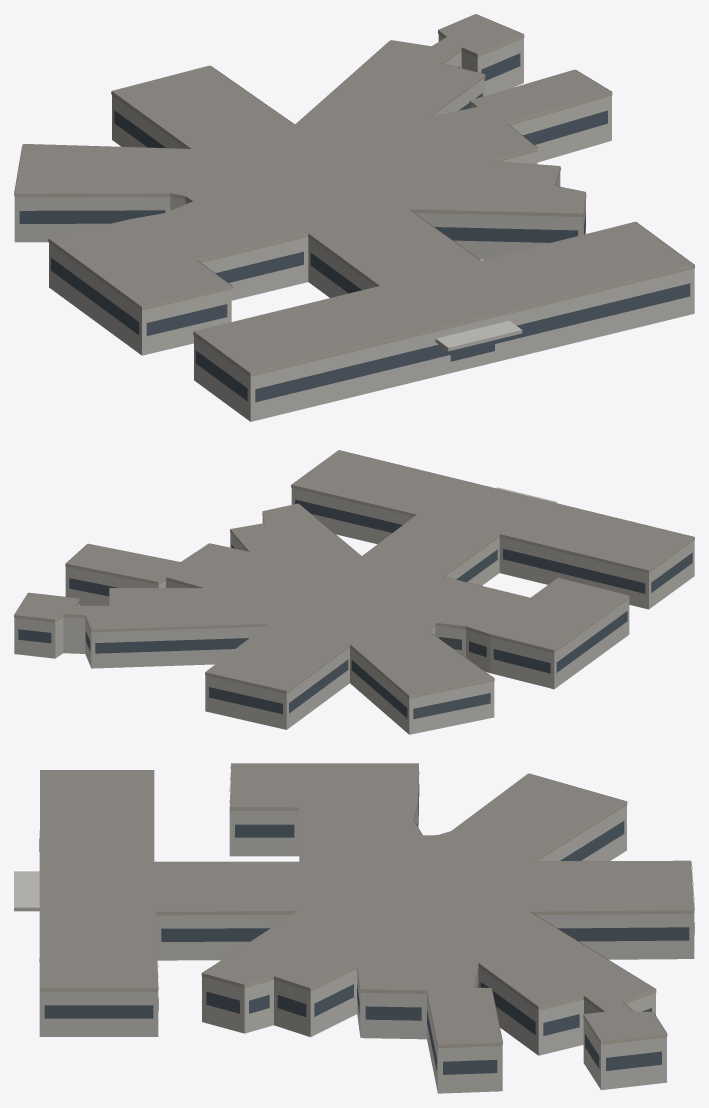
Rendered from quapaw-quarter-nursing-center.glb.
3 renders of one model, top to bottom at view 1: azimuth 30°, elevation 25°; view 2: azimuth 150°, elevation 25°; view 3: azimuth 270°, elevation 25°, orthographic. The views are drawn at different scales.
Parts seen in each view (by area): view 1: quapaw_quarter_nursing_center; view 2: quapaw_quarter_nursing_center; view 3: quapaw_quarter_nursing_center.
Boxes of the visible parts, x1,y1,x2,y2 form: quapaw_quarter_nursing_center: (14,14,694,421); quapaw_quarter_nursing_center: (14,450,694,734); quapaw_quarter_nursing_center: (14,763,694,1093).
Bounding box in the file's own units: 77.61 × 6.3 × 79.33.
